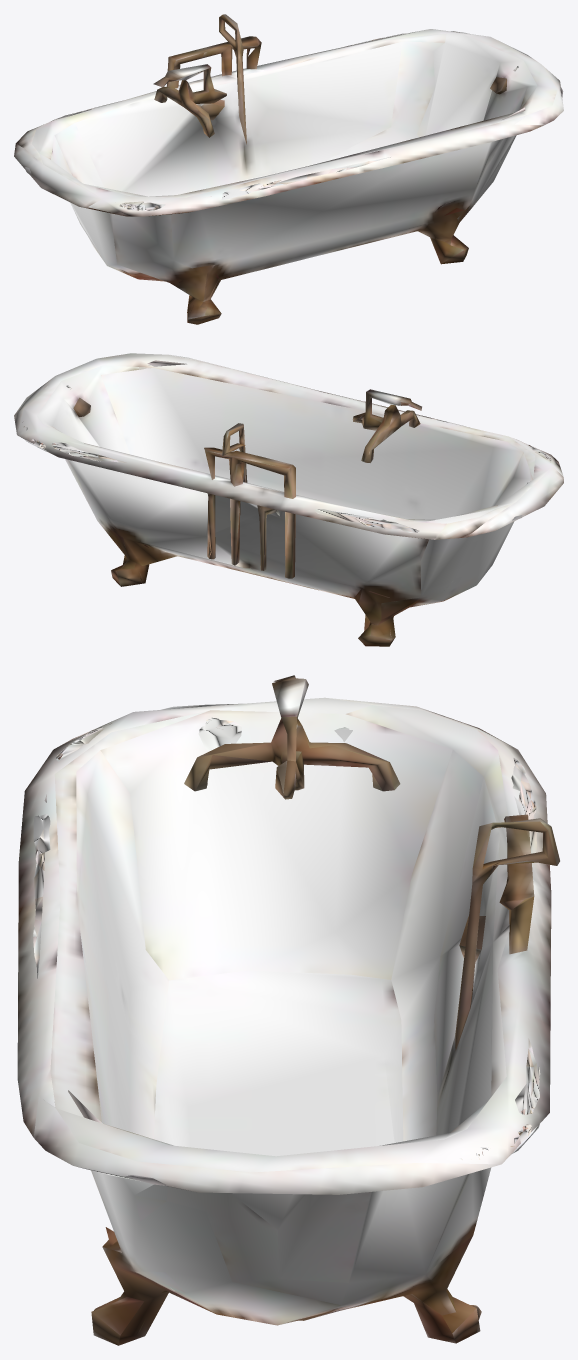
File: tina_bano.movil.glb
3 renders of one model, top to bottom at view 1: azimuth 30°, elevation 25°; view 2: azimuth 150°, elevation 25°; view 3: azimuth 270°, elevation 25°, orthographic. The views are drawn at different scales.
Visible parts, largest first — view 1: geometry_0; view 2: geometry_0; view 3: geometry_0.
Part boxes in pixels (left/top/right/bottom): geometry_0: left=14, top=14, right=563, bottom=324; geometry_0: left=14, top=353, right=563, bottom=646; geometry_0: left=17, top=675, right=559, bottom=1345.
Bounding box in the file's own units: 1.6 × 0.6432 × 0.7499.
1 material, 1 textured.
